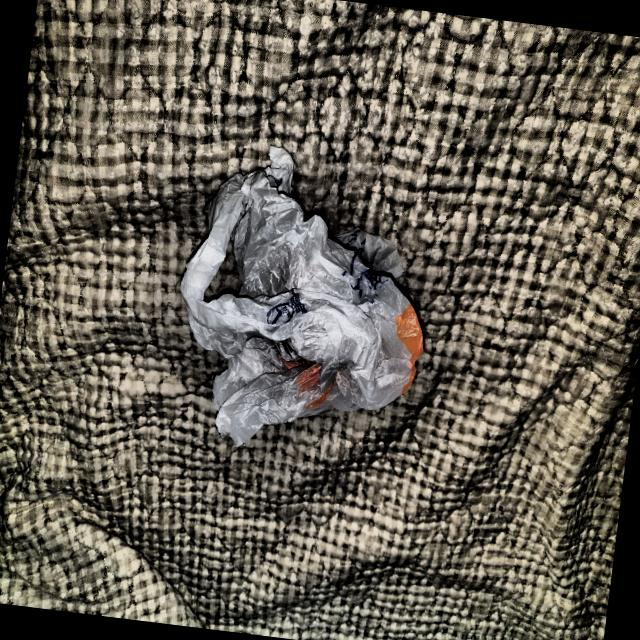plastic bag: (142, 120, 454, 486)
